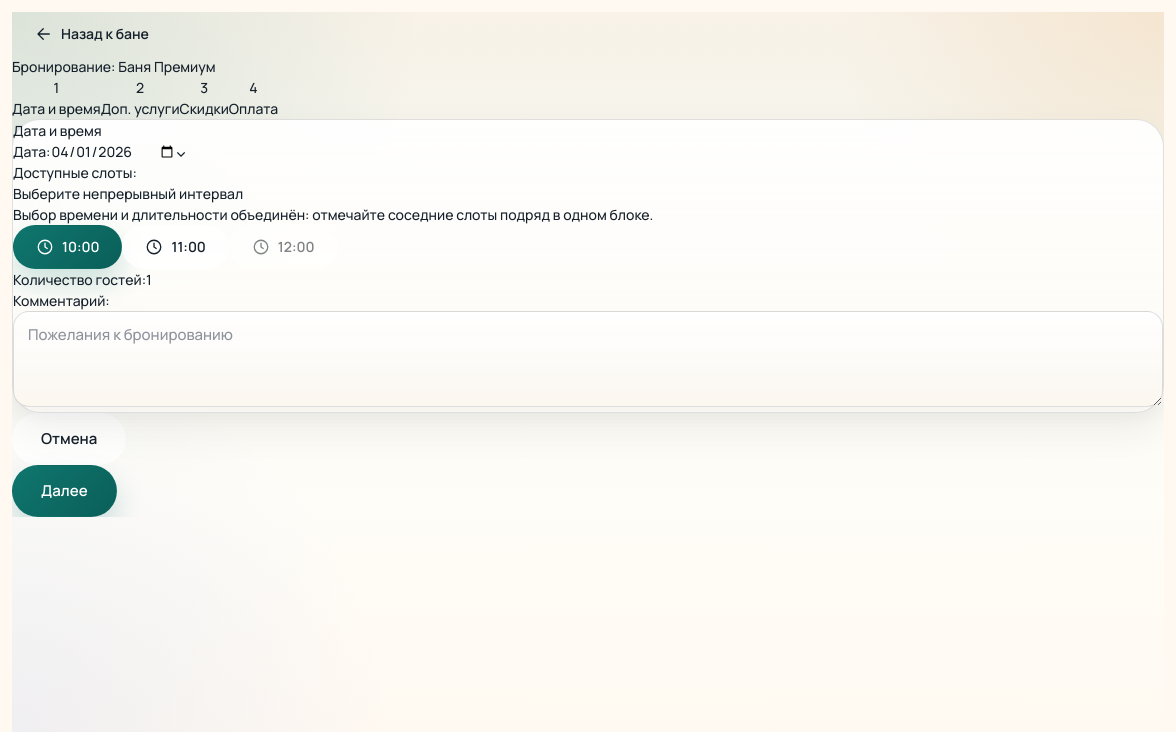
it: BookingCreate › Step navigation › navigates to step 2 when "Далее" is clicked with slot selected
This screenshot has width=1176, height=732.
// Slot is pre-selected via URL params
Click the button "Далее" at (64, 491), box [12,465,117,517]
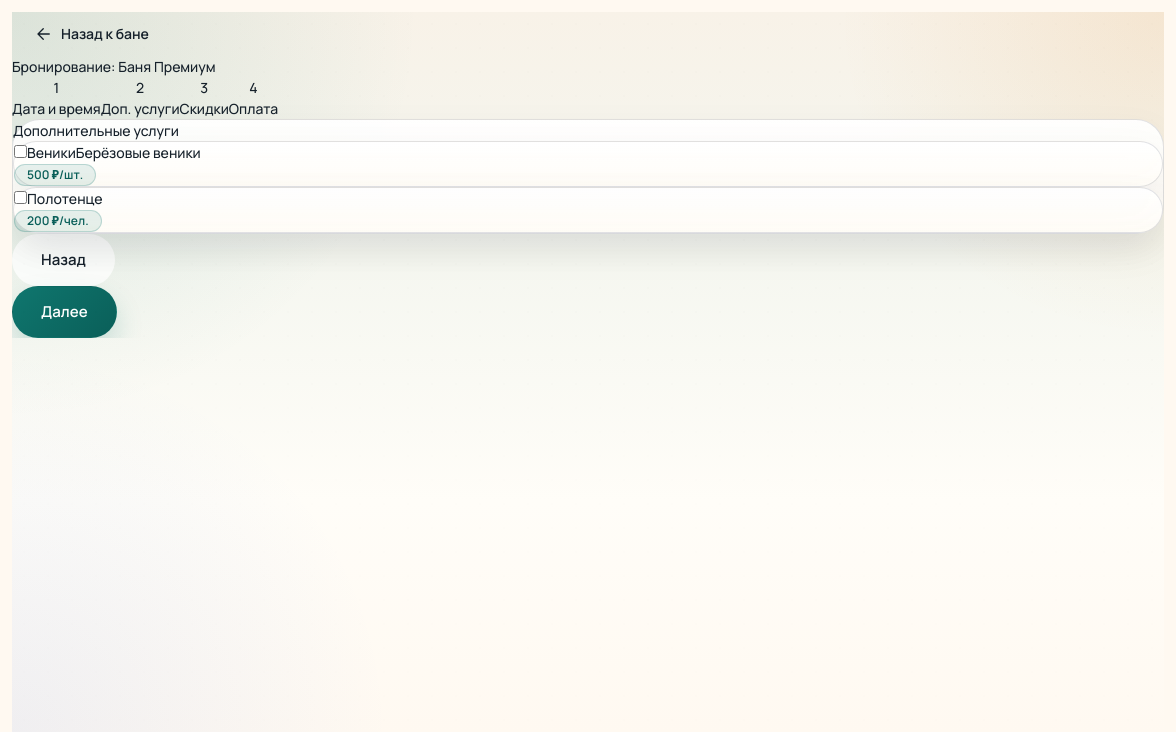
Expected: the text "Дополнительные услуги" is shown, [13,121,179,140]
Expected: the text "Веники" is shown, [27,143,76,162]
